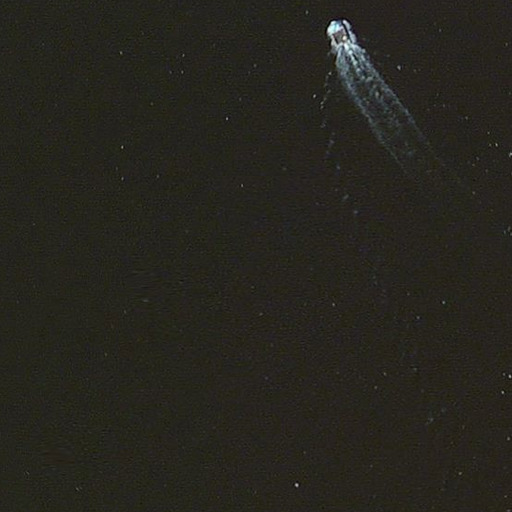ship: (323, 17, 359, 53)
